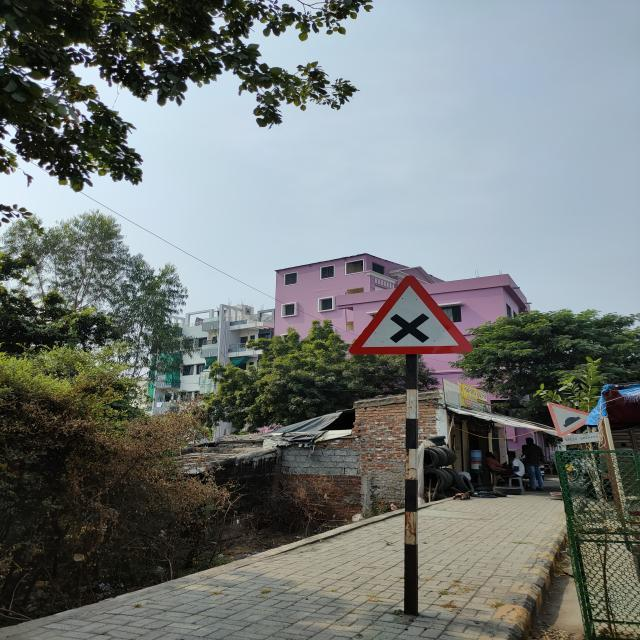cross road: (354, 270, 474, 356)
